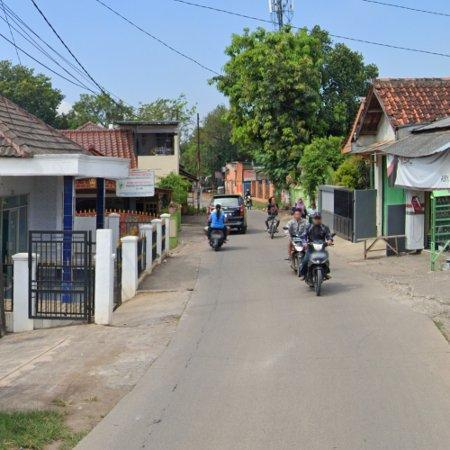motorcycles: (306, 240, 330, 297)
